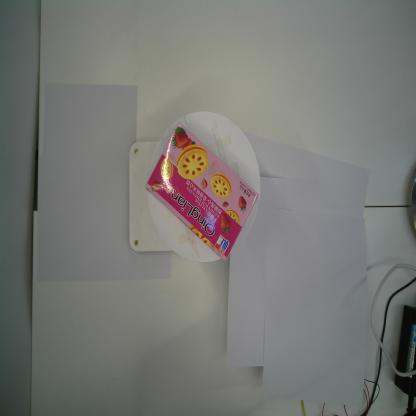Dessert: (144, 120, 259, 262)
